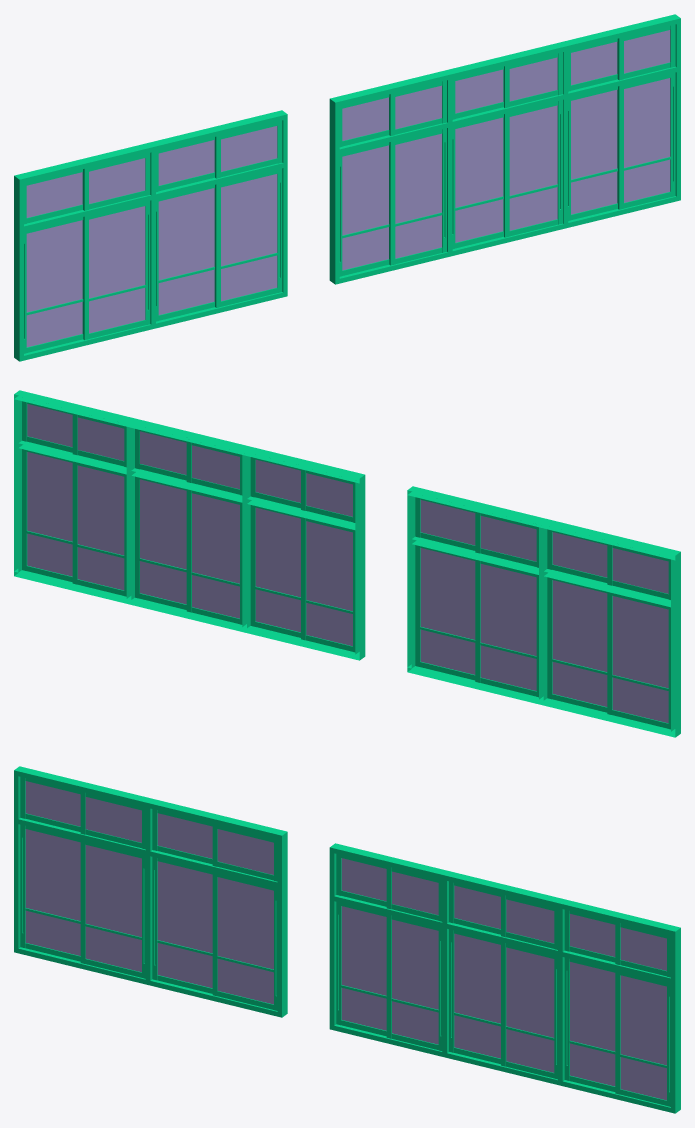
The model's file is window.fbx.
3 renders of one model, top to bottom at view 1: azimuth 30°, elevation 25°; view 2: azimuth 150°, elevation 25°; view 3: azimuth 330°, elevation 25°, orthographic.
Visible parts, largest first — view 1: Object141; view 2: Object141; view 3: Object141.
Part boxes in pixels (x1,y1,x2,y2): Object141: (14,14,680,361); Object141: (14,390,680,737); Object141: (14,766,680,1113).
Size of the model in its own units: 7.66 by 2.01 by 0.1118.
